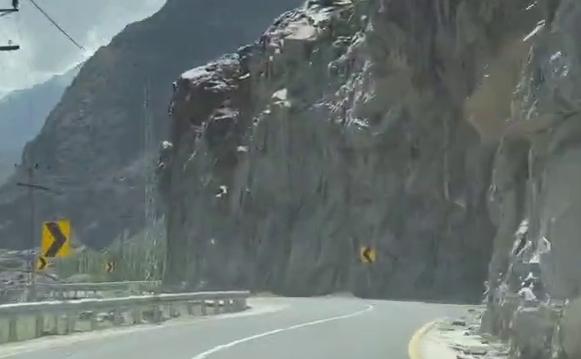right: (224, 240, 448, 359)
